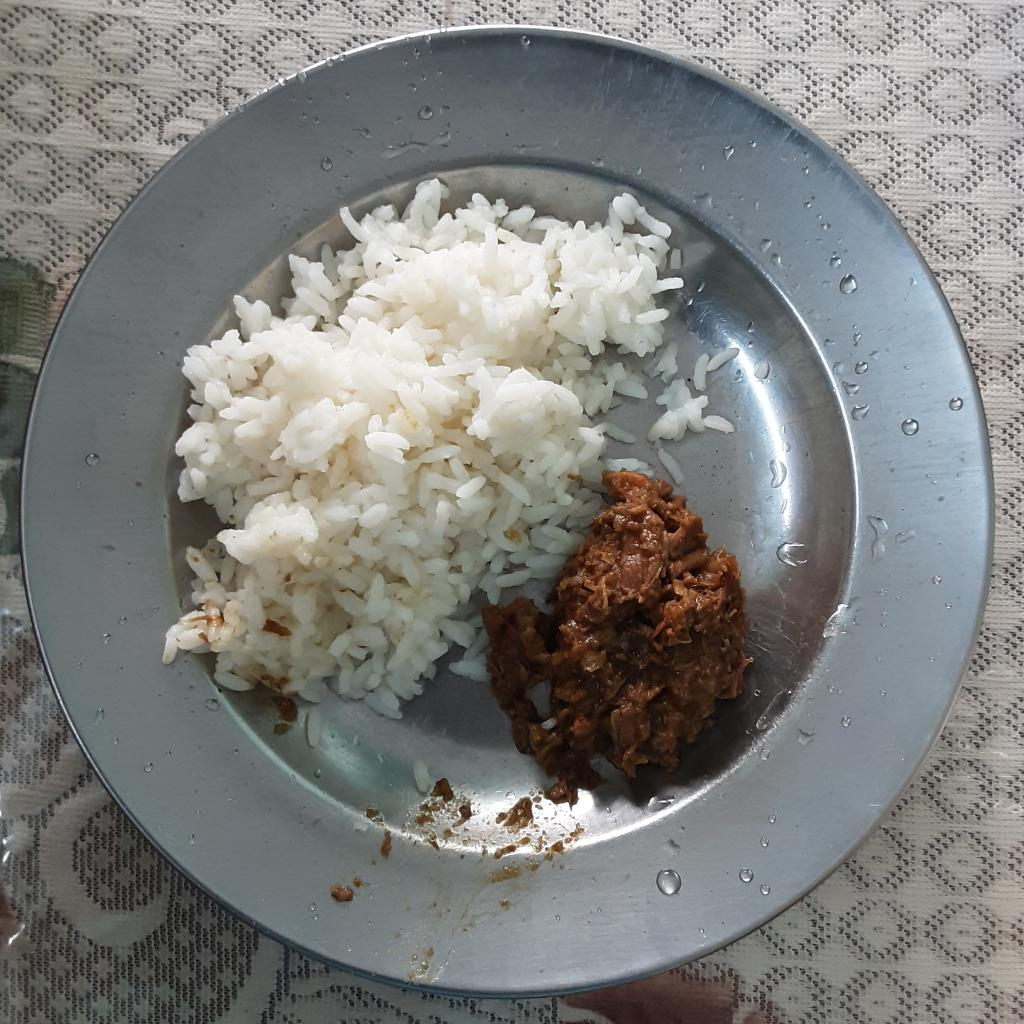beef: (482, 466, 749, 799)
rice: (156, 177, 746, 751), (397, 743, 434, 802)
